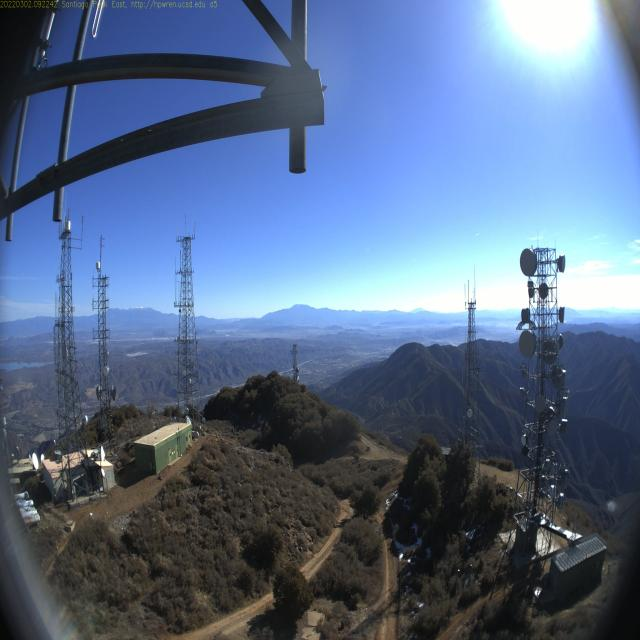smoke: (604, 496, 621, 516)
